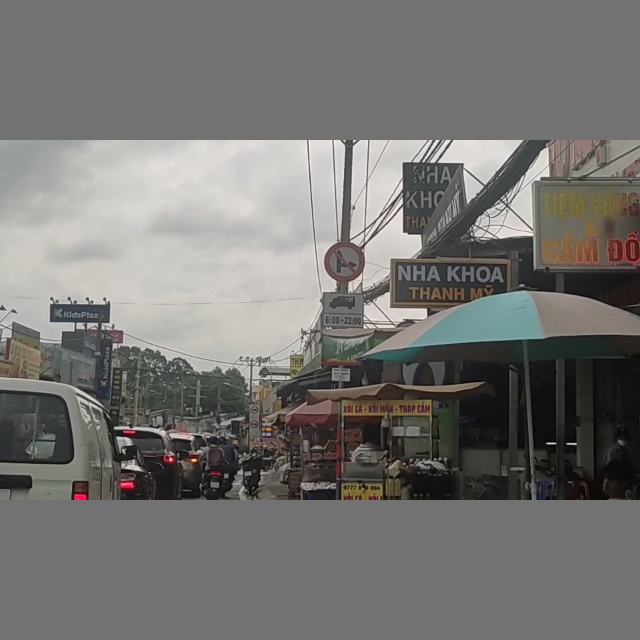P.139: (325, 241, 364, 280)
S.505a*Xe tai: (324, 292, 361, 325)
